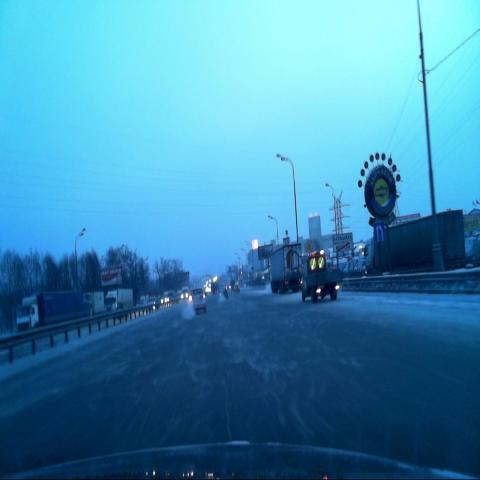5_15_5: (374, 222, 386, 243)
